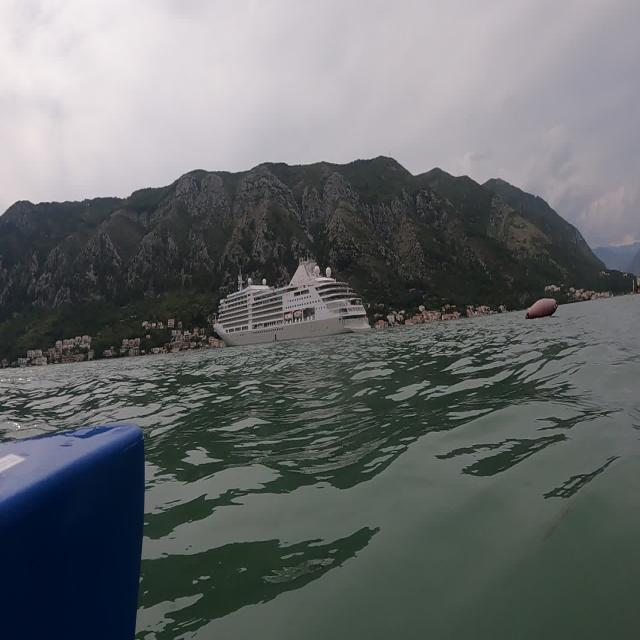boat: (210, 250, 372, 348)
buoy: (520, 290, 566, 326)
